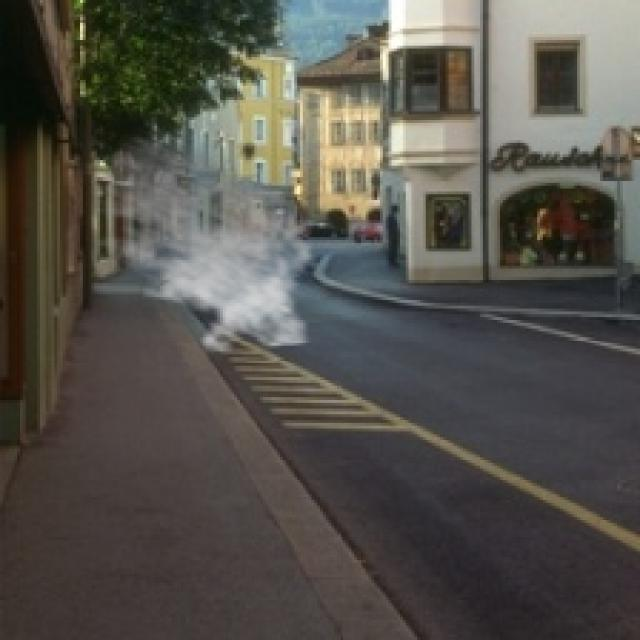Smoke: (83, 134, 323, 354)
